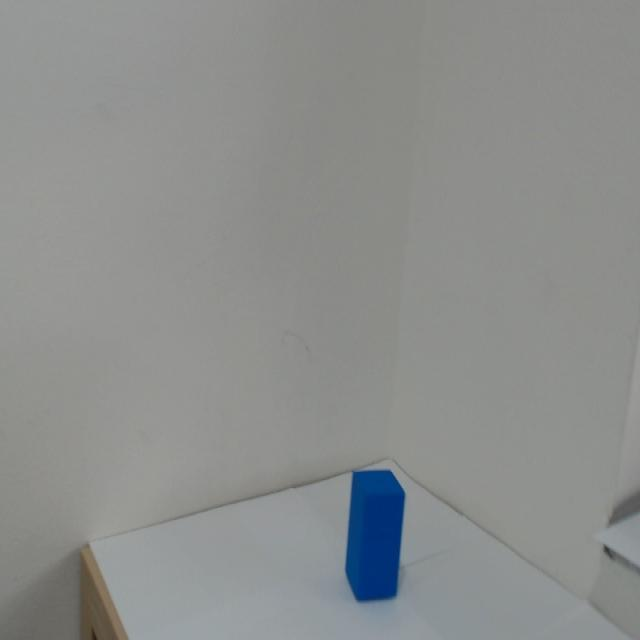cube: (314, 446, 401, 640)
